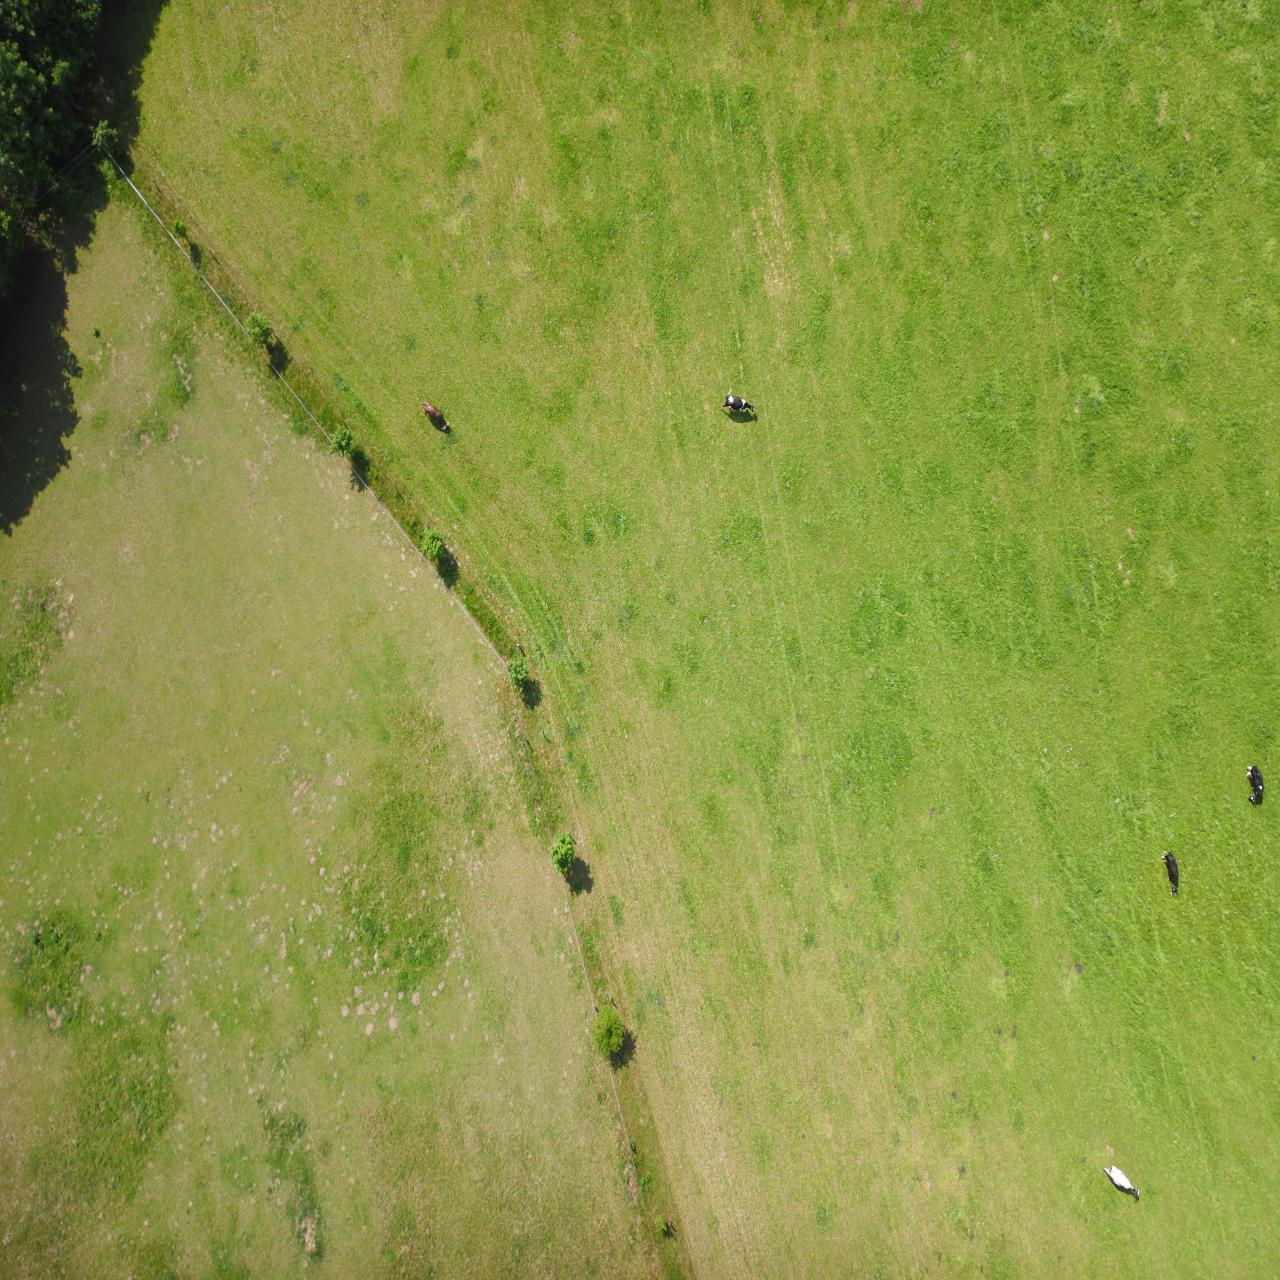cow: (141, 80, 177, 115), (831, 847, 857, 880), (101, 384, 118, 430), (525, 869, 558, 892), (16, 476, 32, 515)
